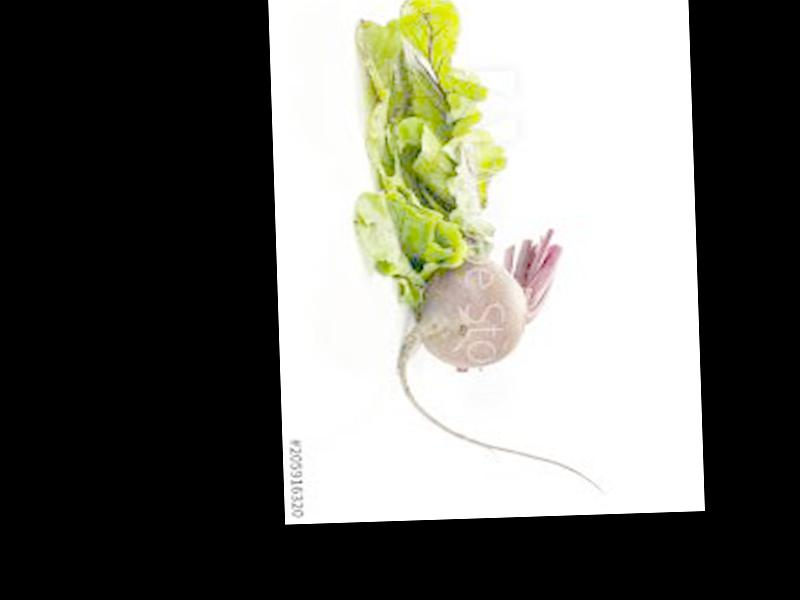Beet: (392, 223, 605, 502)
